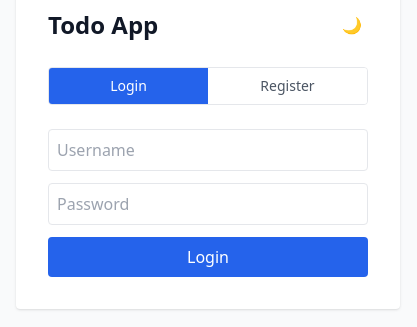
Scenario: AuthPage › switches back to login mode when Login tab is clicked
This screenshot has width=417, height=327.
Click the button "Register". click: [288, 86]
box: [208,68,367,104]
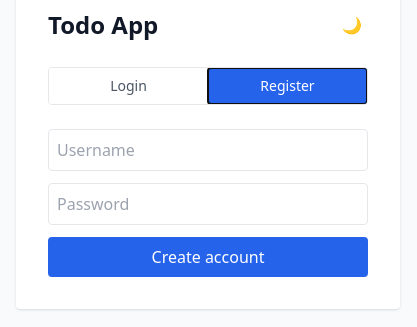
// In register mode there is only one "Login" button (the tab), so getByRole is unambiguous
Click the button "Login". click: [128, 86]
box: [49,68,208,104]
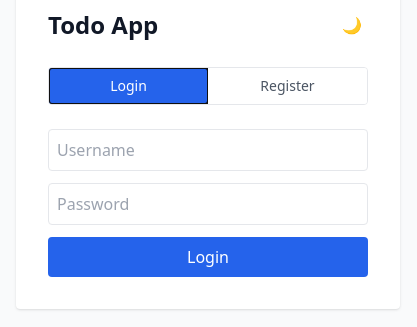
Check: the 2nd button "Login" is shown, box [48,237,368,277]
